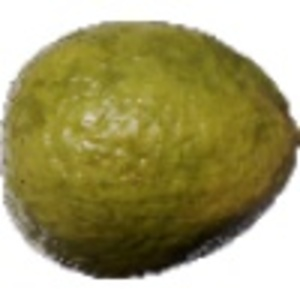goiaba: (3, 14, 297, 279)
